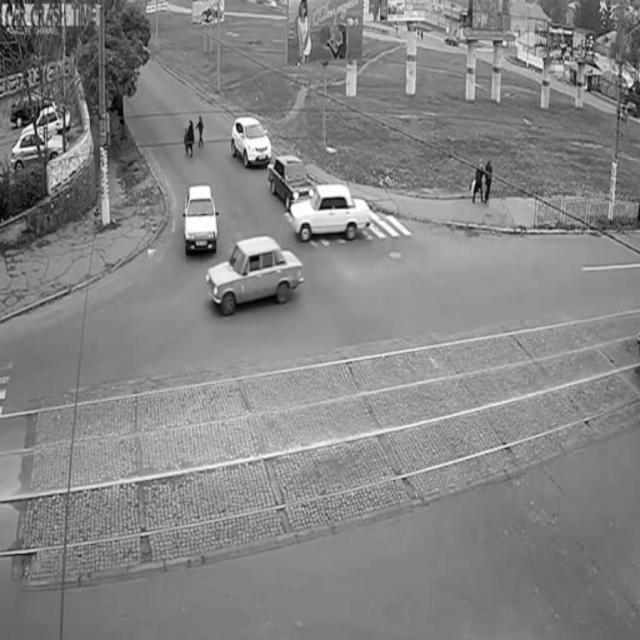person: (475, 149, 495, 210), (181, 106, 196, 161), (196, 104, 210, 159)
vehicle: (207, 241, 305, 308), (292, 182, 375, 243), (9, 122, 70, 173), (181, 184, 216, 264), (269, 149, 309, 204), (229, 116, 269, 171)
